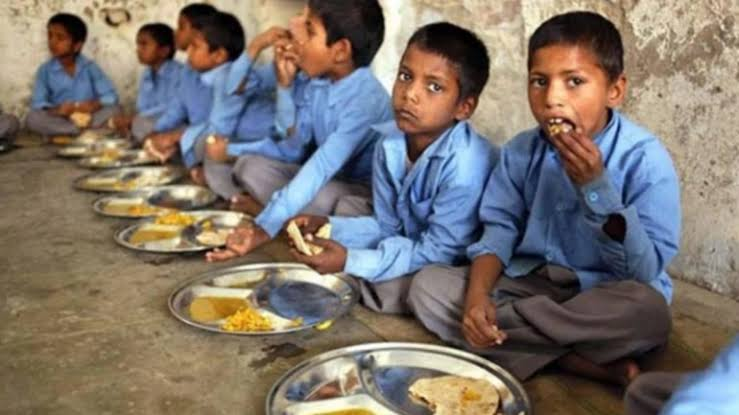student: (518, 22, 628, 155), (395, 18, 491, 143), (280, 1, 366, 66), (185, 12, 243, 73), (35, 9, 95, 62), (134, 11, 180, 69)
